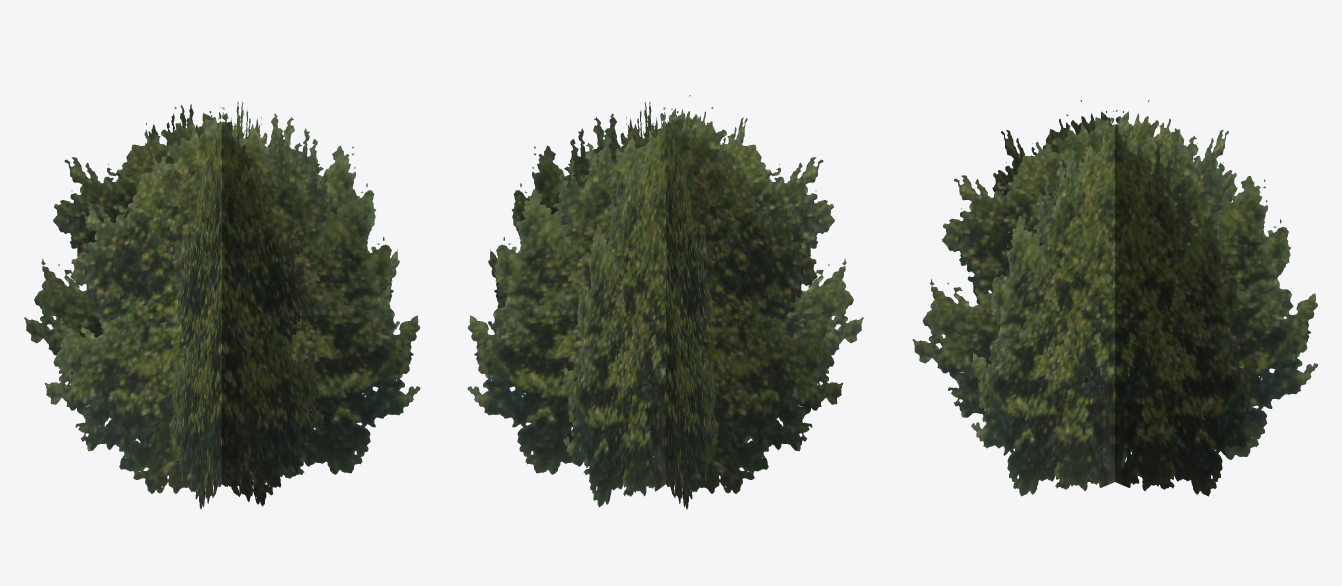
The model's file is Bush2.fbx.
3 views of the same model, side by side, from view 1: azimuth 30°, elevation 25°; view 2: azimuth 150°, elevation 25°; view 3: azimuth 270°, elevation 25° (orthographic).
Visible parts, largest first — view 1: Bush2; view 2: Bush2; view 3: Bush2.
Part boxes in pixels (x1=…): Bush2: x1=24, y1=101, x2=420, y2=509; Bush2: x1=467, y1=95, x2=863, y2=509; Bush2: x1=912, y1=100, x2=1317, y2=496.
Size of the model in its own units: 594 by 582 by 594.
1 material, 1 textured.
